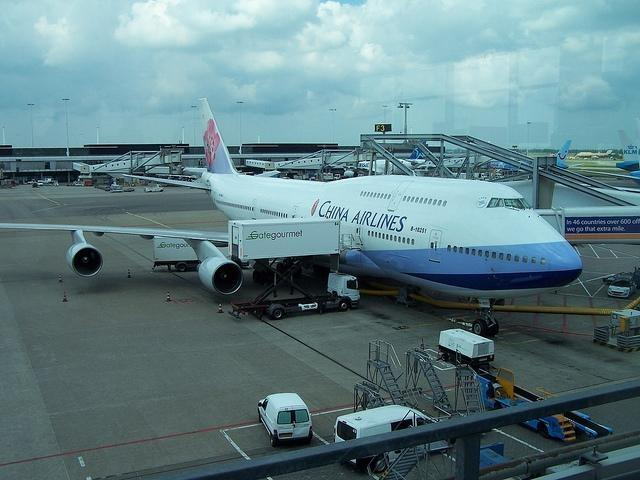car: (334, 404, 454, 472), (259, 392, 313, 446), (608, 274, 638, 299), (124, 187, 135, 192), (37, 181, 44, 186), (32, 183, 38, 188)
truck: (226, 272, 361, 320), (142, 183, 164, 192)
